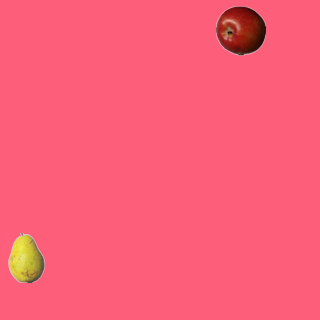Apple Braeburn: (215, 5, 265, 55)
Pear Monster: (1, 232, 51, 282)
